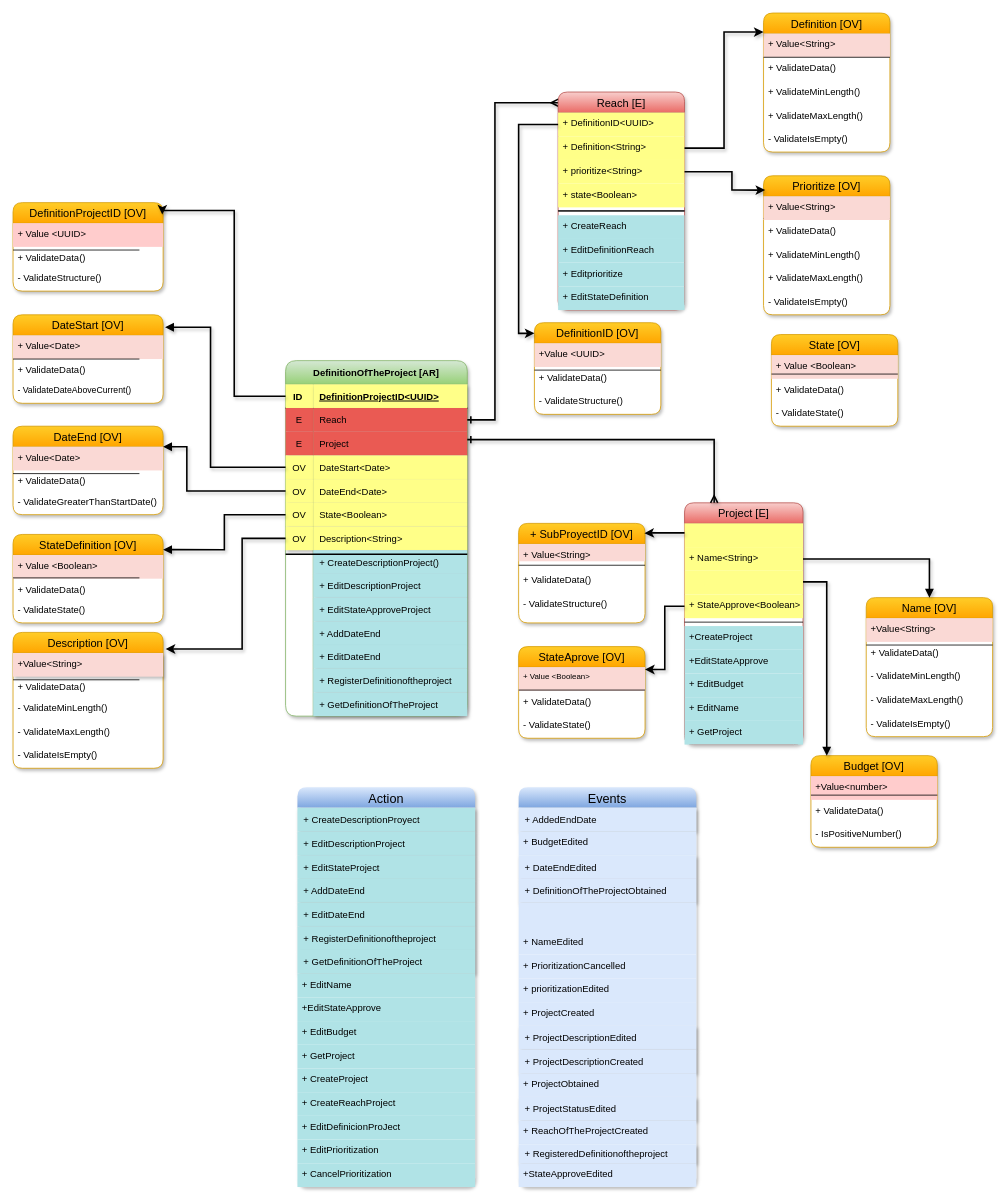
Some shapes in this 1006 by 1200 pixel diagram are drawn without their labels. Each missing label, with the centre of its shape:
"+ Budget" goes at (x=743, y=582).
"+ EditedProjectDefinition" goes at (x=607, y=916).
"+ ProjectID" goes at (x=743, y=535).
